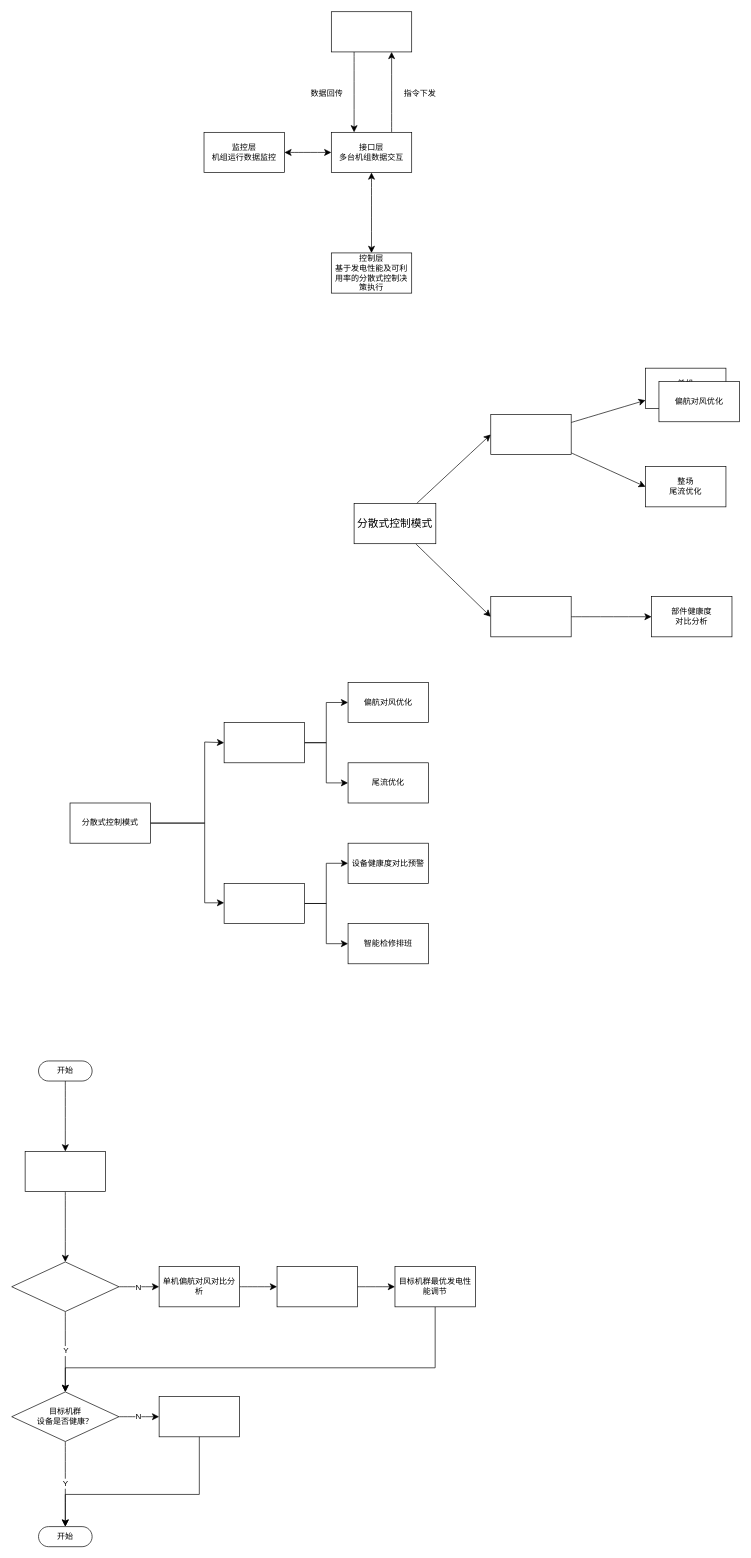
Some shapes in this 751 by 1558 pixel diagram are drawn without their labels. Here are the shapes that lost their labels. From the top down, the box of each, then its label:
(331, 11, 412, 52): 风力发电机组单机侧 分散式控制功能接口开放
(490, 414, 571, 455): 发电性能提升
(490, 596, 571, 637): 可利用率
(223, 722, 305, 763): 发电性能提升模块
(223, 883, 305, 924): 可利用率提升模块
(24, 1151, 106, 1192): 目标机组群内历史运行数据分析
(11, 1261, 119, 1312): 目标机群 是否发电性能最优？
(276, 1266, 357, 1307): 区域尾流计算
(158, 1396, 240, 1437): 结合风功率预测 智能检修排班
